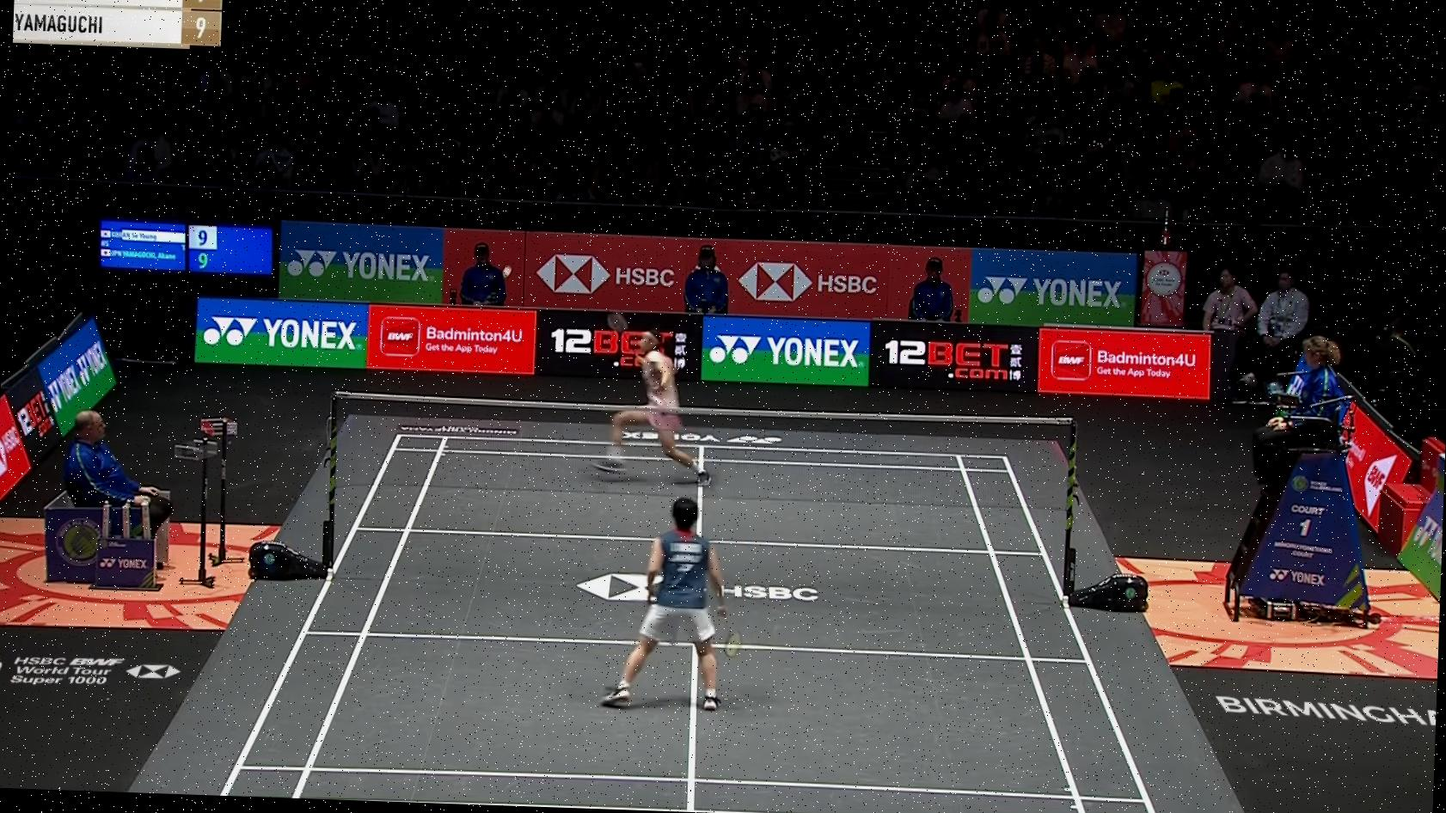Player 1: (588, 302, 724, 495)
Player 2: (591, 486, 757, 723)
shuttle: (488, 257, 522, 287)
